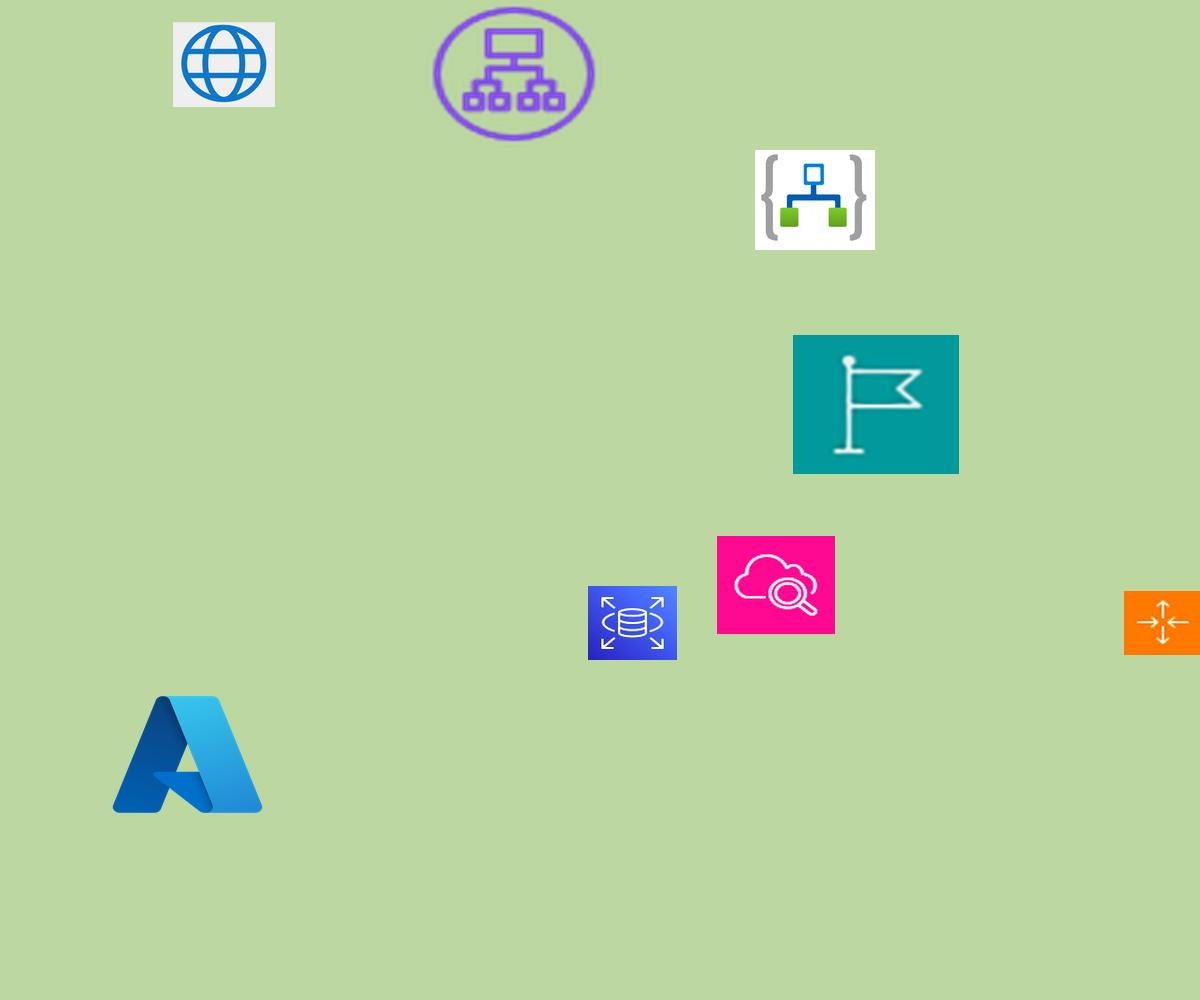AWS-CloudWatch: (717, 536, 835, 634)
AWS-RDS: (588, 586, 677, 660)
AWS-Region: (793, 335, 959, 474)
AWS-Res_Elastic-Load-Balancing_Application-Load-Balancer: (426, 1, 602, 147)
AWS-Scaling-group: (1124, 591, 1200, 655)
Azure_http: (173, 22, 275, 107)
Azure_integration-204-Logic-Apps: (755, 150, 875, 250)
Azure_services: (106, 687, 269, 822)
